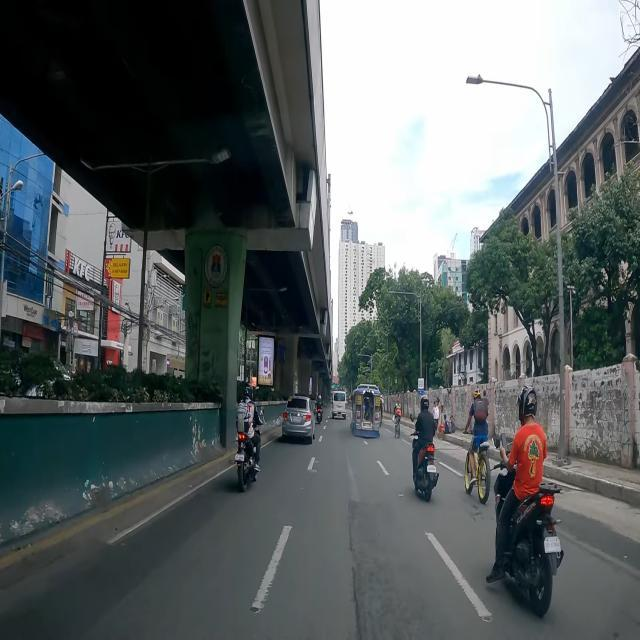bike: (466, 391, 490, 504), (393, 402, 401, 438)
car: (282, 396, 316, 444), (332, 390, 346, 420)
jeepney: (350, 388, 382, 437), (315, 396, 323, 424)
motorcycle: (486, 386, 564, 617), (412, 396, 439, 501), (235, 386, 262, 490)
